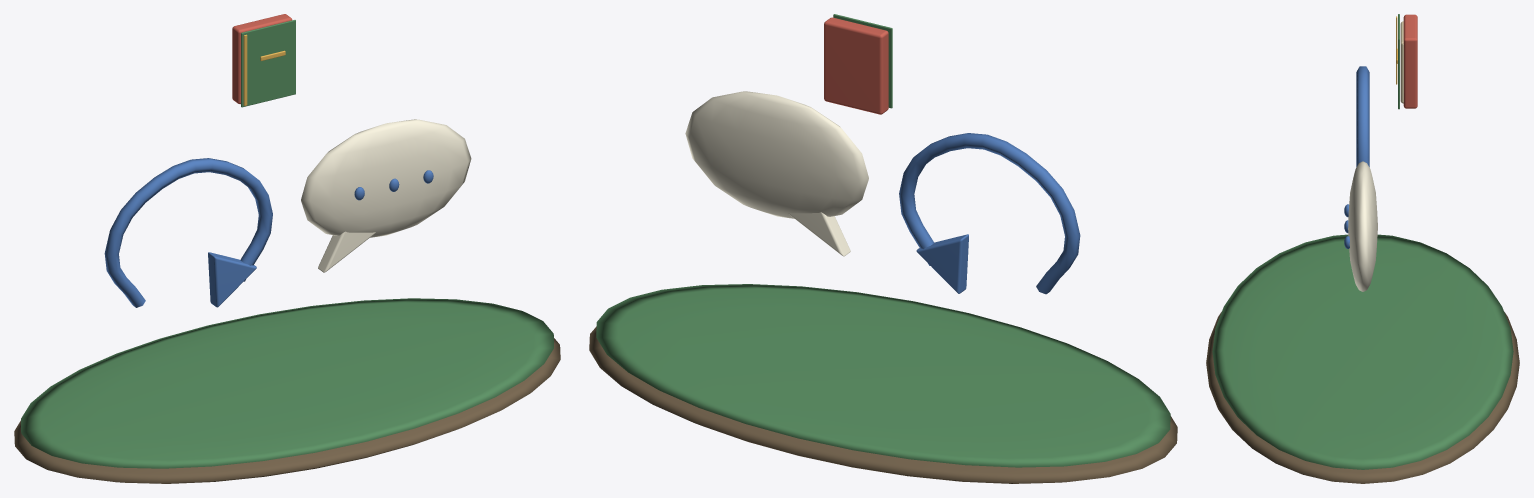
The model's file is complete-third-turned-translation.glb.
The picture shows the model from 3 angles, left to right: view 1: azimuth 30°, elevation 25°; view 2: azimuth 150°, elevation 25°; view 3: azimuth 270°, elevation 25°; orthographic projection. The views are drawn at different scales.
Parts seen in each view (by area): view 1: complete-third-turned-translation_surface_01, complete-third-turned-translation_surface_03, complete-third-turned-translation_surface_00, complete-third-turned-translation_surface_02, complete-third-turned-translation_surface_04; view 2: complete-third-turned-translation_surface_01, complete-third-turned-translation_surface_03, complete-third-turned-translation_surface_00, complete-third-turned-translation_surface_02, complete-third-turned-translation_surface_04; view 3: complete-third-turned-translation_surface_01, complete-third-turned-translation_surface_00, complete-third-turned-translation_surface_03, complete-third-turned-translation_surface_02, complete-third-turned-translation_surface_04.
Part boxes in pixels (left/top/right/bottom): complete-third-turned-translation_surface_01: left=21, top=20, right=553, bottom=468; complete-third-turned-translation_surface_03: left=301, top=119, right=471, bottom=272; complete-third-turned-translation_surface_00: left=14, top=338, right=560, bottom=483; complete-third-turned-translation_surface_02: left=104, top=158, right=433, bottom=307; complete-third-turned-translation_surface_04: left=232, top=14, right=292, bottom=104; complete-third-turned-translation_surface_01: left=596, top=14, right=1170, bottom=467; complete-third-turned-translation_surface_03: left=685, top=91, right=868, bottom=256; complete-third-turned-translation_surface_00: left=589, top=326, right=1177, bottom=483; complete-third-turned-translation_surface_02: left=899, top=133, right=1080, bottom=294; complete-third-turned-translation_surface_04: left=824, top=17, right=888, bottom=114; complete-third-turned-translation_surface_01: left=1212, top=14, right=1513, bottom=469; complete-third-turned-translation_surface_00: left=1206, top=312, right=1519, bottom=483; complete-third-turned-translation_surface_03: left=1348, top=161, right=1377, bottom=291; complete-third-turned-translation_surface_02: left=1344, top=66, right=1369, bottom=248; complete-third-turned-translation_surface_04: left=1403, top=14, right=1417, bottom=108.
Bounding box in the file's own units: 4.56 × 3.09 × 2.5.
